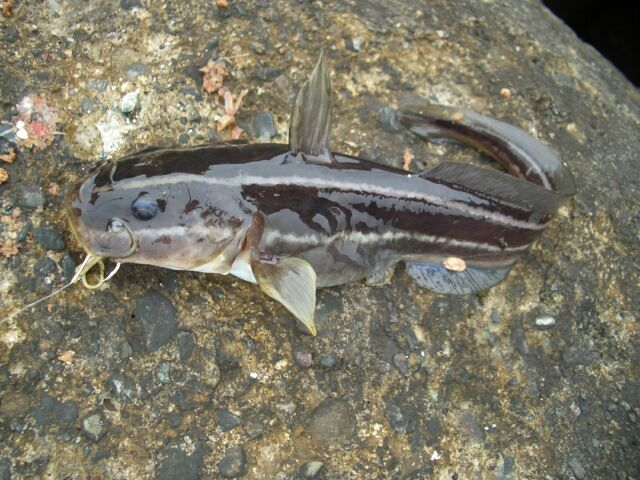gonzui: (59, 74, 587, 339)
